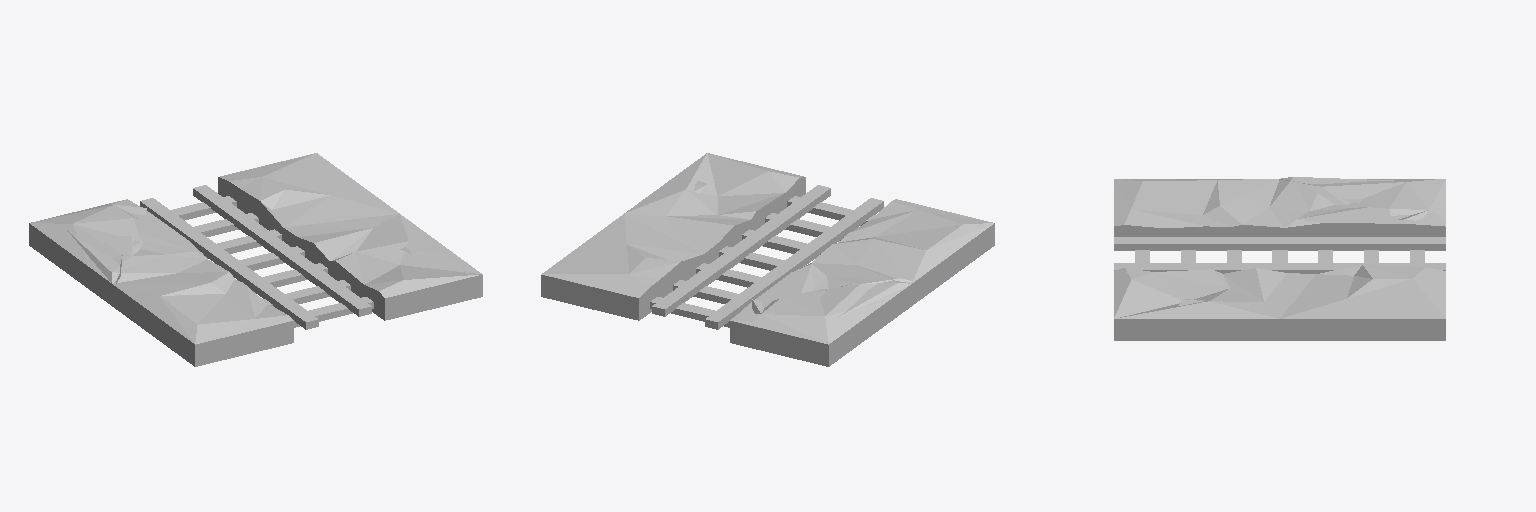
Rendered from piso 3.obj.
The picture shows the model from 3 angles: view 1: azimuth 30°, elevation 25°; view 2: azimuth 150°, elevation 25°; view 3: azimuth 270°, elevation 25°; orthographic projection.
Parts seen in each view (by area): view 1: piso_4 piso_3, piso_3 piso_3, piso_3 musgo_3, piso_3 riel_1, piso_3 riel_2, piso_3 tablon_7, piso_3 tablon_6; view 2: piso_4 piso_3, piso_3 piso_3, piso_3 musgo_3, piso_3 riel_1, piso_3 riel_2, piso_3 tablon_1, piso_3 tablon_7; view 3: piso_4 piso_3, piso_3 piso_3, piso_3 riel_2, piso_3 musgo_3, piso_3 riel_1.
Part boxes in pixels (left/top/right/bottom): piso_4 piso_3: left=218, top=153, right=482, bottom=320; piso_3 piso_3: left=29, top=199, right=293, bottom=366; piso_3 musgo_3: left=30, top=204, right=146, bottom=283; piso_3 riel_1: left=193, top=185, right=371, bottom=316; piso_3 riel_2: left=140, top=198, right=318, bottom=329; piso_3 tablon_7: left=292, top=297, right=373, bottom=327; piso_3 tablon_6: left=263, top=280, right=350, bottom=308; piso_4 piso_3: left=541, top=153, right=805, bottom=320; piso_3 piso_3: left=730, top=199, right=994, bottom=366; piso_3 musgo_3: left=750, top=278, right=911, bottom=344; piso_3 riel_1: left=652, top=185, right=830, bottom=316; piso_3 riel_2: left=705, top=198, right=883, bottom=329; piso_3 tablon_1: left=650, top=297, right=732, bottom=327; piso_3 tablon_7: left=787, top=196, right=875, bottom=225; piso_4 piso_3: left=1114, top=265, right=1445, bottom=340; piso_3 piso_3: left=1114, top=177, right=1445, bottom=236; piso_3 riel_2: left=1114, top=237, right=1445, bottom=250; piso_3 musgo_3: left=1279, top=179, right=1445, bottom=220; piso_3 riel_1: left=1114, top=263, right=1445, bottom=273.
Size of the model in its own units: 21.74 by 2.2 by 21.74.